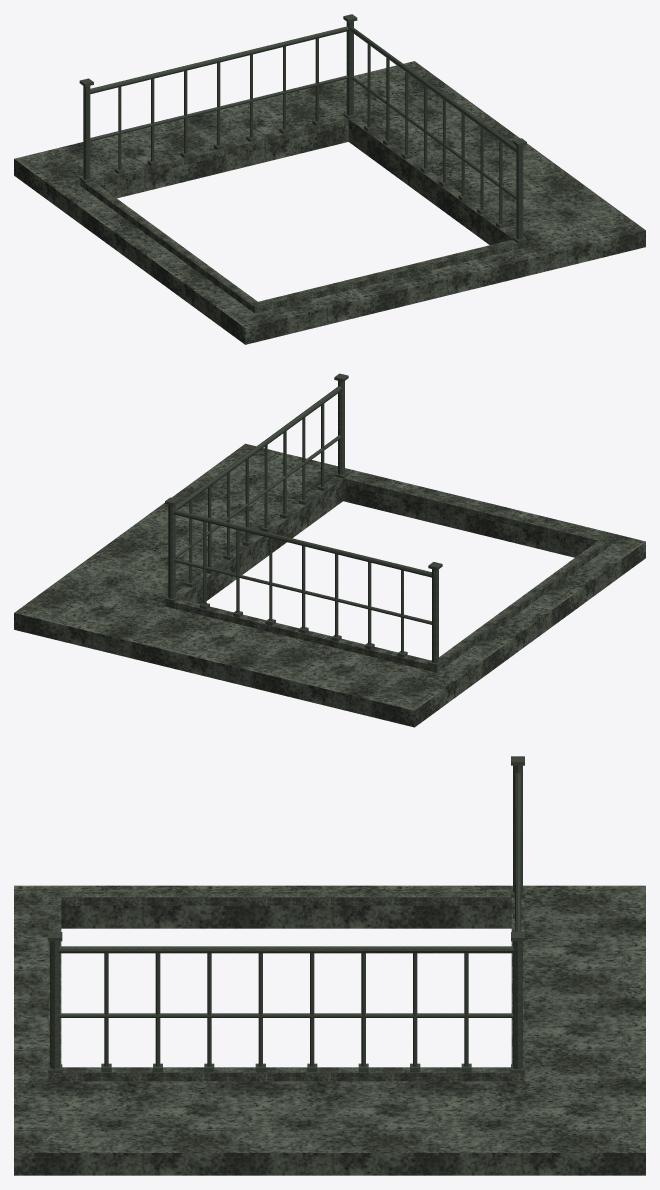
Rendered from SM_Floor_Stairwell_4x4.fbx.
3 views of the same model, one above another, from view 1: azimuth 30°, elevation 25°; view 2: azimuth 150°, elevation 25°; view 3: azimuth 270°, elevation 25° (orthographic). The views are drawn at different scales.
Parts seen in each view (by area): view 1: SM_Floor_Stairwell_4x4; view 2: SM_Floor_Stairwell_4x4; view 3: SM_Floor_Stairwell_4x4.
Boxes of the visible parts, bbox=[...] form: SM_Floor_Stairwell_4x4: bbox=[14, 14, 645, 344]; SM_Floor_Stairwell_4x4: bbox=[14, 373, 645, 727]; SM_Floor_Stairwell_4x4: bbox=[14, 756, 645, 1175].
Size of the model in its own units: 4 by 1.16 by 4.
